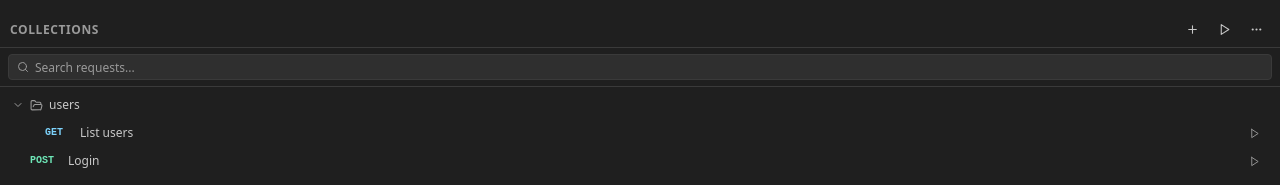
CollectionTree search › matches a URL and shows no matches when nothing hits
Type "/users" into the field labelled "Search requests" at (649, 67), box [35, 55, 1263, 79]
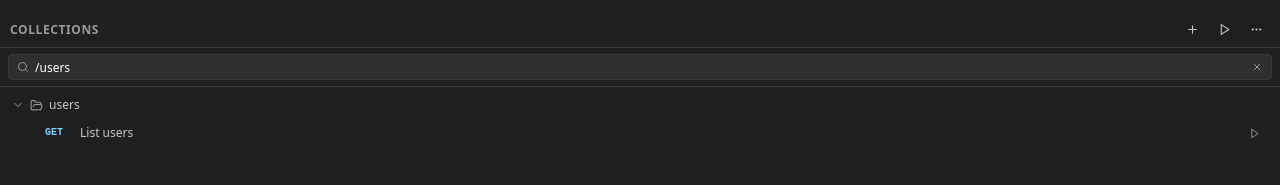
expect the text "List users" is shown: met, box [80, 124, 133, 141]
Replace the text in the field named "Search requests" with "nope" at (640, 67), box [35, 55, 1245, 79]
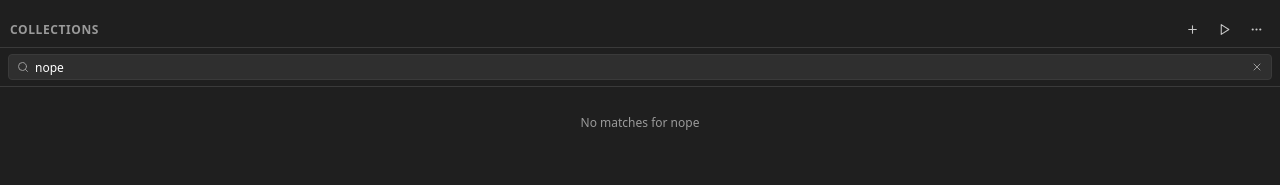
expect the text "No matches for nope" is shown: met, box [580, 115, 699, 131]
